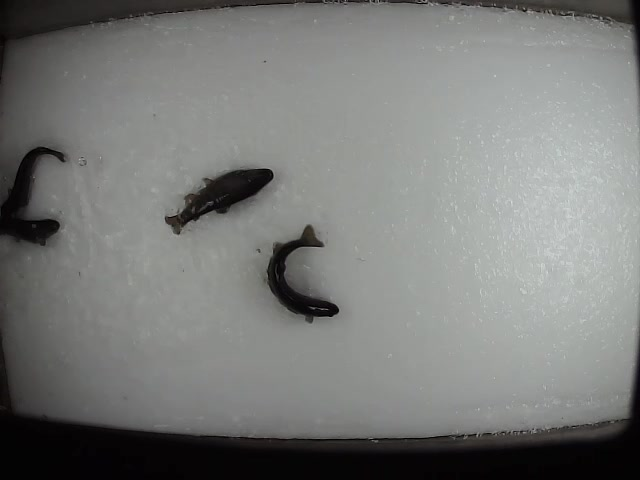fish: (263, 221, 342, 323), (163, 164, 274, 236), (1, 142, 68, 220)
